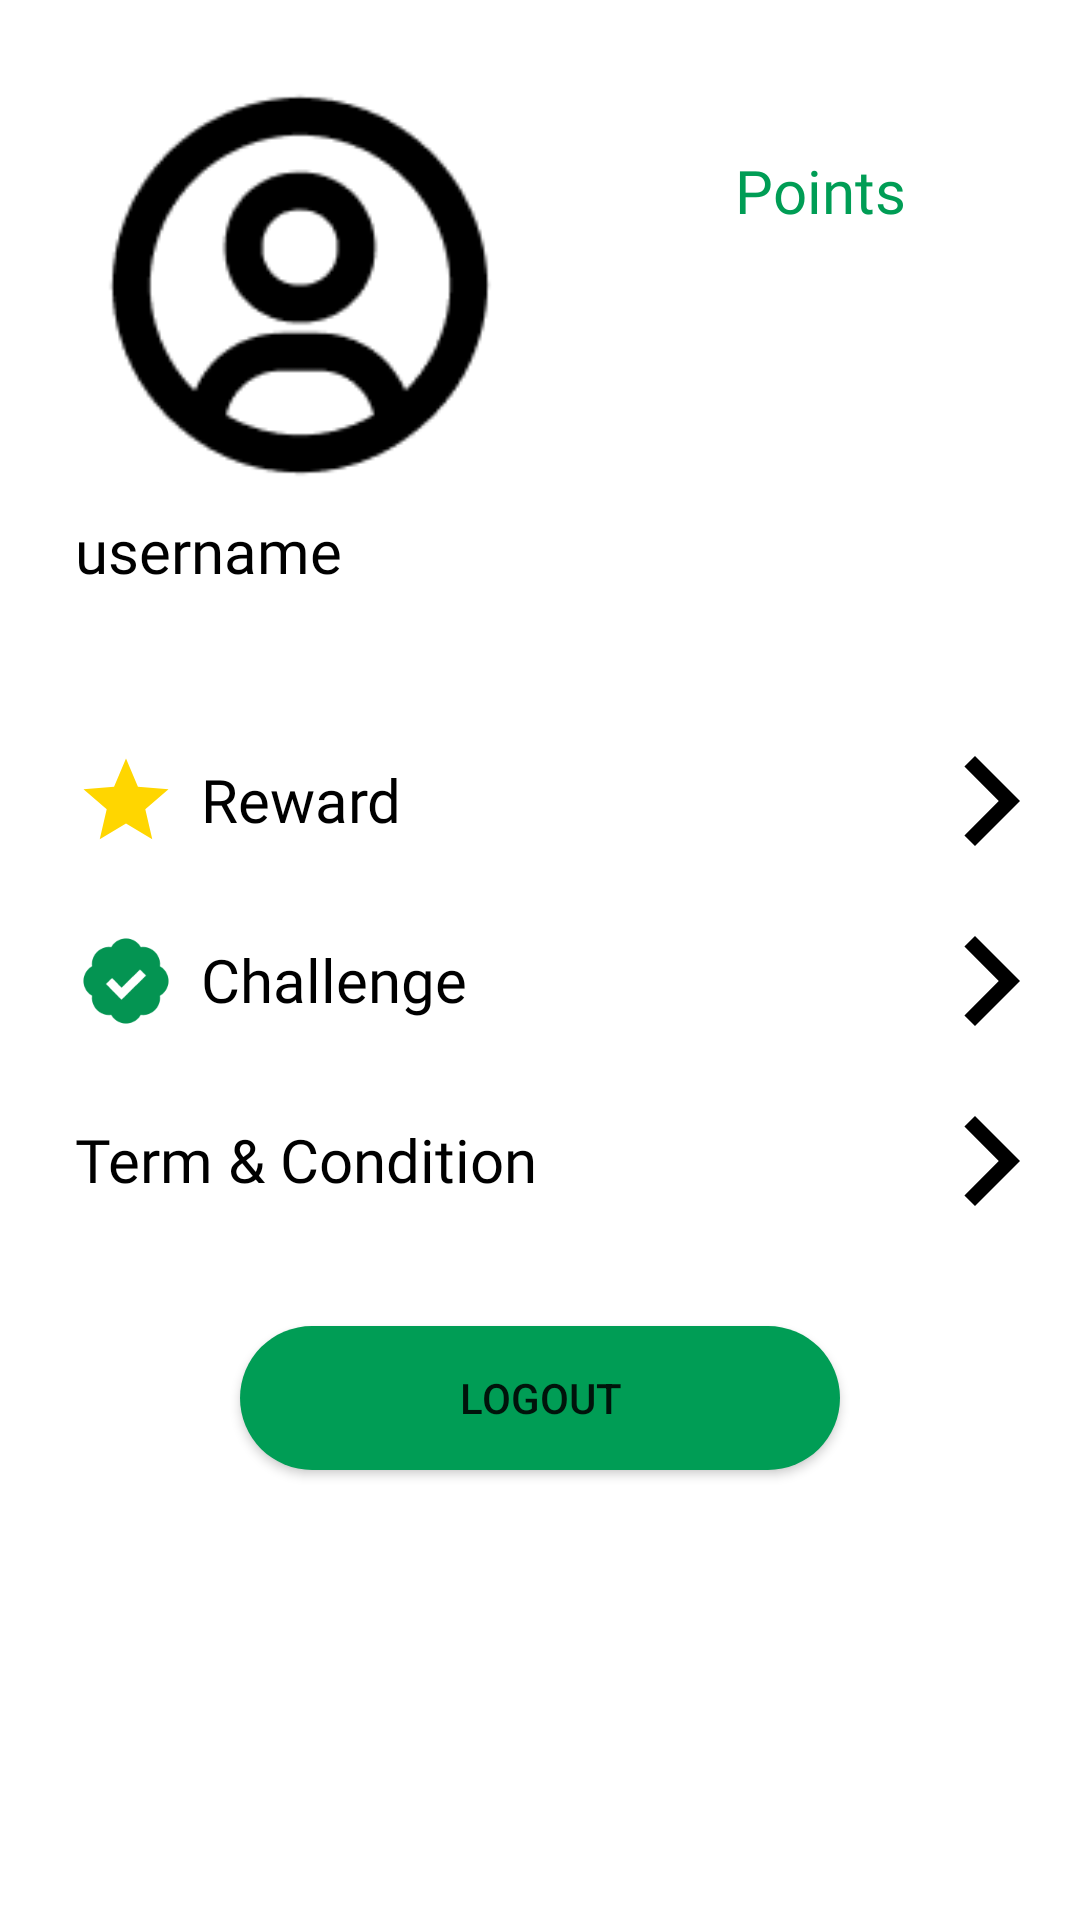

Named icons in this screenshot (1080px×1920px) and their bounding boxes, (x1, y1, x2, y2):
check badge: (83, 938, 169, 1024)
chevron right: (964, 756, 1020, 846), (964, 936, 1020, 1026), (964, 1116, 1020, 1206)
star: (83, 759, 169, 839)
